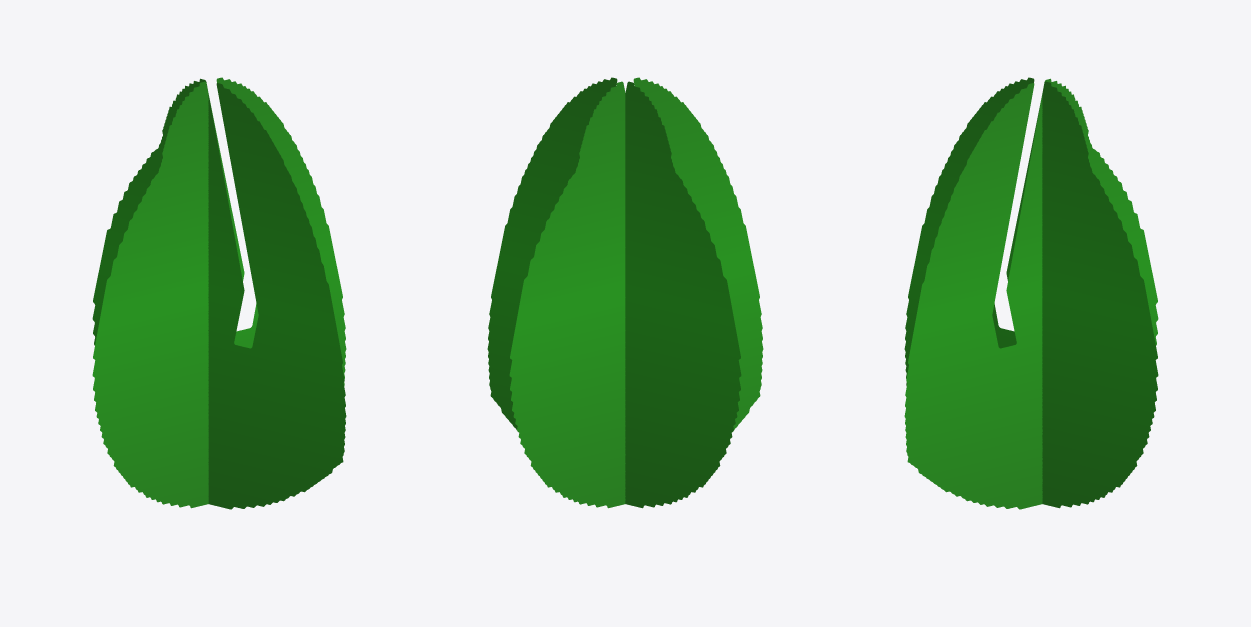
The model's file is shrub.gltf.
3 views of the same model, side by side, from view 1: azimuth 30°, elevation 25°; view 2: azimuth 150°, elevation 25°; view 3: azimuth 270°, elevation 25° (orthographic).
Visible parts, largest first — view 1: Shrub; view 2: Shrub; view 3: Shrub.
Part boxes in pixels (x1,y1,x2,y2): Shrub: (92,77,346,509); Shrub: (487,77,763,508); Shrub: (904,77,1158,509).
Size of the model in its own units: 0.9 by 1 by 0.7794.
Materials: 1 (1 with a texture image).
